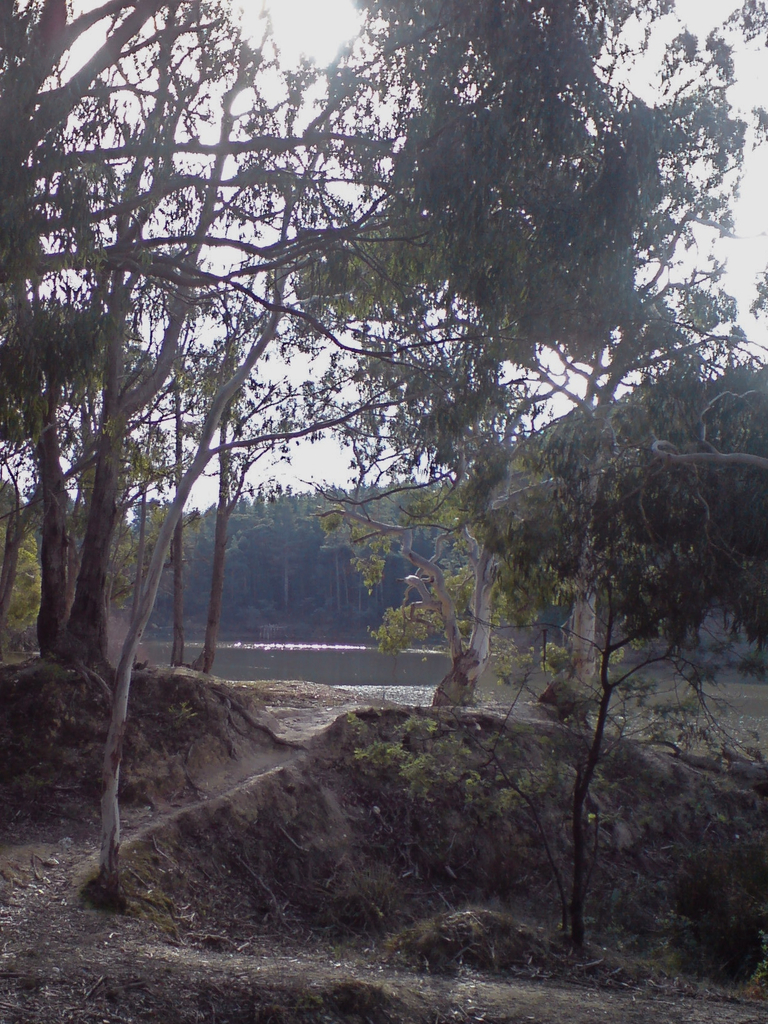Tree: (0, 0, 767, 906)
